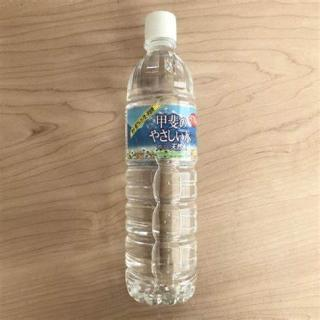Anorganik: (120, 4, 208, 309)
